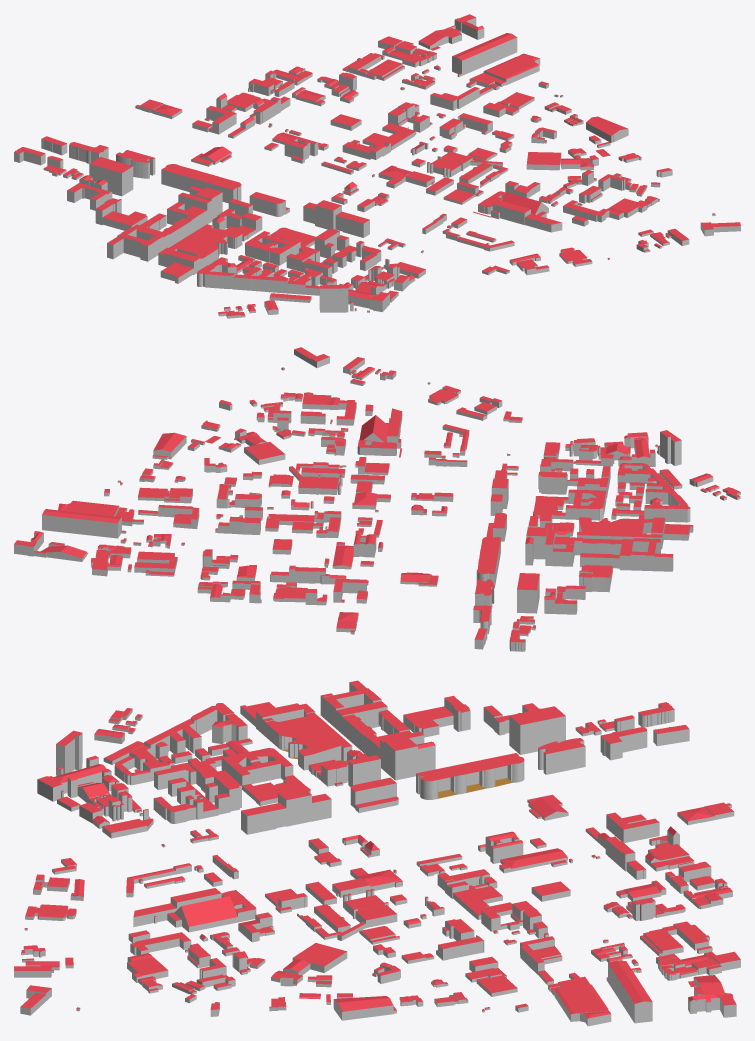
3 renders of one model, top to bottom at view 1: azimuth 30°, elevation 25°; view 2: azimuth 150°, elevation 25°; view 3: azimuth 270°, elevation 25°, orthographic. The views are drawn at different scales.
Visible parts, largest first — view 1: 0: [LoD2] DEHH_e0af9a30-3fe9-481b-8f73-753fe4ea8583, 0: [LoD2] DEHH_dea7c46f-d697-4c67-9cdd-1dc5cf75832b, 0: [LoD2] DEHH_2f6e444d-5aa6-4560-aa8e-80e36238681b, 0: [LoD2] DEHH_d9e2fa08-5cac-405d-ba4d-bc390fa81fd0, 0: [LoD2] DEHH_0013e878-0000-2000-b538-a1f1557e557e, 0: [LoD2] DEHH_0013e7c4-0000-2000-b538-a1f1557e557e, 0: [LoD2] DEHH_272d1a9e-c3ba-4c2c-9fdc-db1aa7247bdf, 0: [LoD2] DEHH_c3261af4-07b1-4614-8b57-68437e859a69, 0: [LoD2] DEHH_872d8a1d-4a81-4ea0-875e-3bb75bb438fe, 0: [LoD2] DEHH_879df638-f42e-4f4d-ae2d-5909761a855b, 0: [LoD2] DEHH_c73360f2-d505-4be7-9318-d3d0c6289691, 0: [LoD2] DEHH_248f217c-c46f-4928-8ef9-248a2fb0e320 (+7 smaller); view 2: 0: [LoD2] DEHH_2f6e444d-5aa6-4560-aa8e-80e36238681b, 0: [LoD2] DEHH_e0af9a30-3fe9-481b-8f73-753fe4ea8583, 0: [LoD2] DEHH_dea7c46f-d697-4c67-9cdd-1dc5cf75832b, 0: [LoD2] DEHH_d9e2fa08-5cac-405d-ba4d-bc390fa81fd0, 0: [LoD2] DEHH_c73360f2-d505-4be7-9318-d3d0c6289691, 0: [LoD2] DEHH_f128e408-190d-4b83-ae4a-90f62f452347, 0: [LoD2] DEHH_0013e982-0000-2000-b538-a1f1557e557e, 0: [LoD2] DEHH_0013e8e7-0000-2000-b538-a1f1557e557e, 0: [LoD2] DEHH_0013e878-0000-2000-b538-a1f1557e557e, 0: [LoD2] DEHH_0013e94f-0000-2000-b538-a1f1557e557e, 0: [LoD2] DEHH_805a31b7-b704-481c-8777-c7335d59737f, 0: [LoD2] DEHH_0013e886-0000-2000-b538-a1f1557e557e (+3 smaller); view 3: 0: [LoD2] DEHH_dea7c46f-d697-4c67-9cdd-1dc5cf75832b, 0: [LoD2] DEHH_e0af9a30-3fe9-481b-8f73-753fe4ea8583, 0: [LoD2] DEHH_d9e2fa08-5cac-405d-ba4d-bc390fa81fd0, 0: [LoD2] DEHH_2f6e444d-5aa6-4560-aa8e-80e36238681b, 0: [LoD2] DEHH_0013e8e7-0000-2000-b538-a1f1557e557e, 0: [LoD2] DEHH_c3261af4-07b1-4614-8b57-68437e859a69, 0: [LoD2] DEHH_0013e7c1-0000-2000-b538-a1f1557e557e, 0: [LoD2] DEHH_0013e878-0000-2000-b538-a1f1557e557e, 0: [LoD2] DEHH_0013e982-0000-2000-b538-a1f1557e557e, 0: [LoD2] DEHH_248f217c-c46f-4928-8ef9-248a2fb0e320, 0: [LoD2] DEHH_4e046882-e526-4977-b54c-33bfd3a06127, 0: [LoD2] DEHH_c73360f2-d505-4be7-9318-d3d0c6289691 (+29 smaller).
Boxes of the visible parts, box(x1,y1,x2,y2) form: 0: [LoD2] DEHH_e0af9a30-3fe9-481b-8f73-753fe4ea8583: box(169, 224, 242, 267); 0: [LoD2] DEHH_dea7c46f-d697-4c67-9cdd-1dc5cf75832b: box(161, 164, 241, 203); 0: [LoD2] DEHH_2f6e444d-5aa6-4560-aa8e-80e36238681b: box(452, 33, 517, 75); 0: [LoD2] DEHH_d9e2fa08-5cac-405d-ba4d-bc390fa81fd0: box(89, 157, 133, 196); 0: [LoD2] DEHH_0013e878-0000-2000-b538-a1f1557e557e: box(484, 55, 539, 85); 0: [LoD2] DEHH_0013e7c4-0000-2000-b538-a1f1557e557e: box(319, 285, 348, 312); 0: [LoD2] DEHH_272d1a9e-c3ba-4c2c-9fdc-db1aa7247bdf: box(245, 238, 288, 265); 0: [LoD2] DEHH_c3261af4-07b1-4614-8b57-68437e859a69: box(116, 150, 155, 178); 0: [LoD2] DEHH_872d8a1d-4a81-4ea0-875e-3bb75bb438fe: box(197, 265, 236, 289); 0: [LoD2] DEHH_879df638-f42e-4f4d-ae2d-5909761a855b: box(249, 192, 285, 216); 0: [LoD2] DEHH_c73360f2-d505-4be7-9318-d3d0c6289691: box(526, 152, 561, 170); 0: [LoD2] DEHH_248f217c-c46f-4928-8ef9-248a2fb0e320: box(69, 142, 108, 163); 0: [LoD2] DEHH_2f6e444d-5aa6-4560-aa8e-80e36238681b: box(42, 509, 121, 538); 0: [LoD2] DEHH_e0af9a30-3fe9-481b-8f73-753fe4ea8583: box(577, 517, 648, 539); 0: [LoD2] DEHH_dea7c46f-d697-4c67-9cdd-1dc5cf75832b: box(476, 536, 500, 588); 0: [LoD2] DEHH_d9e2fa08-5cac-405d-ba4d-bc390fa81fd0: box(517, 573, 539, 613); 0: [LoD2] DEHH_c73360f2-d505-4be7-9318-d3d0c6289691: box(244, 442, 285, 464); 0: [LoD2] DEHH_f128e408-190d-4b83-ae4a-90f62f452347: box(533, 496, 568, 519); 0: [LoD2] DEHH_0013e982-0000-2000-b538-a1f1557e557e: box(153, 432, 186, 459); 0: [LoD2] DEHH_0013e8e7-0000-2000-b538-a1f1557e557e: box(359, 415, 388, 443); 0: [LoD2] DEHH_0013e878-0000-2000-b538-a1f1557e557e: box(64, 500, 119, 516); 0: [LoD2] DEHH_0013e94f-0000-2000-b538-a1f1557e557e: box(541, 471, 566, 494); 0: [LoD2] DEHH_805a31b7-b704-481c-8777-c7335d59737f: box(357, 440, 396, 455); 0: [LoD2] DEHH_0013e886-0000-2000-b538-a1f1557e557e: box(40, 545, 87, 561); 0: [LoD2] DEHH_dea7c46f-d697-4c67-9cdd-1dc5cf75832b: box(416, 753, 524, 799); 0: [LoD2] DEHH_e0af9a30-3fe9-481b-8f73-753fe4ea8583: box(265, 712, 352, 770); 0: [LoD2] DEHH_d9e2fa08-5cac-405d-ba4d-bc390fa81fd0: box(509, 706, 565, 754); 0: [LoD2] DEHH_2f6e444d-5aa6-4560-aa8e-80e36238681b: box(608, 960, 652, 1023); 0: [LoD2] DEHH_0013e8e7-0000-2000-b538-a1f1557e557e: box(174, 896, 237, 932); 0: [LoD2] DEHH_c3261af4-07b1-4614-8b57-68437e859a69: box(538, 738, 585, 774); 0: [LoD2] DEHH_0013e7c1-0000-2000-b538-a1f1557e557e: box(384, 736, 417, 780); 0: [LoD2] DEHH_0013e878-0000-2000-b538-a1f1557e557e: box(554, 984, 608, 1021); 0: [LoD2] DEHH_0013e982-0000-2000-b538-a1f1557e557e: box(333, 996, 393, 1020); 0: [LoD2] DEHH_248f217c-c46f-4928-8ef9-248a2fb0e320: box(600, 727, 647, 760); 0: [LoD2] DEHH_4e046882-e526-4977-b54c-33bfd3a06127: box(278, 787, 311, 826); 0: [LoD2] DEHH_c73360f2-d505-4be7-9318-d3d0c6289691: box(292, 943, 347, 973).
Size of the model in its own units: 109879 by 5600 by 103089.
